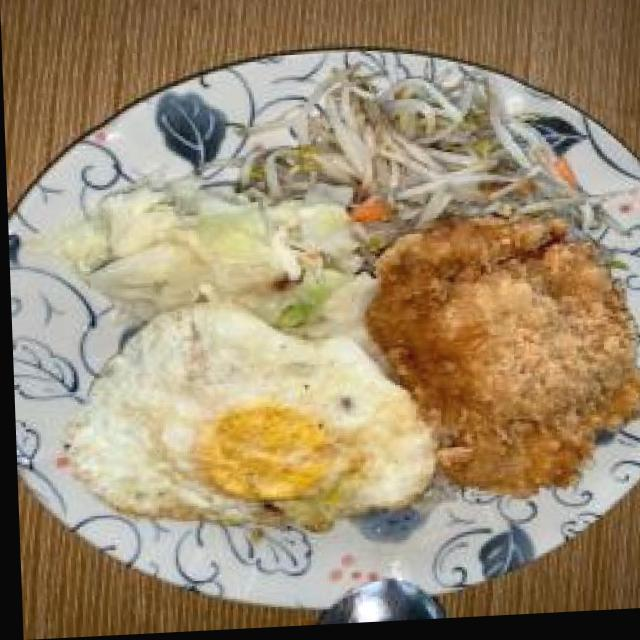chinese_cabbage: (45, 160, 372, 316)
fried_chicken: (367, 217, 640, 508)
fried_eggs: (52, 301, 434, 541)
mung_bean_sprouts: (288, 67, 570, 226)
